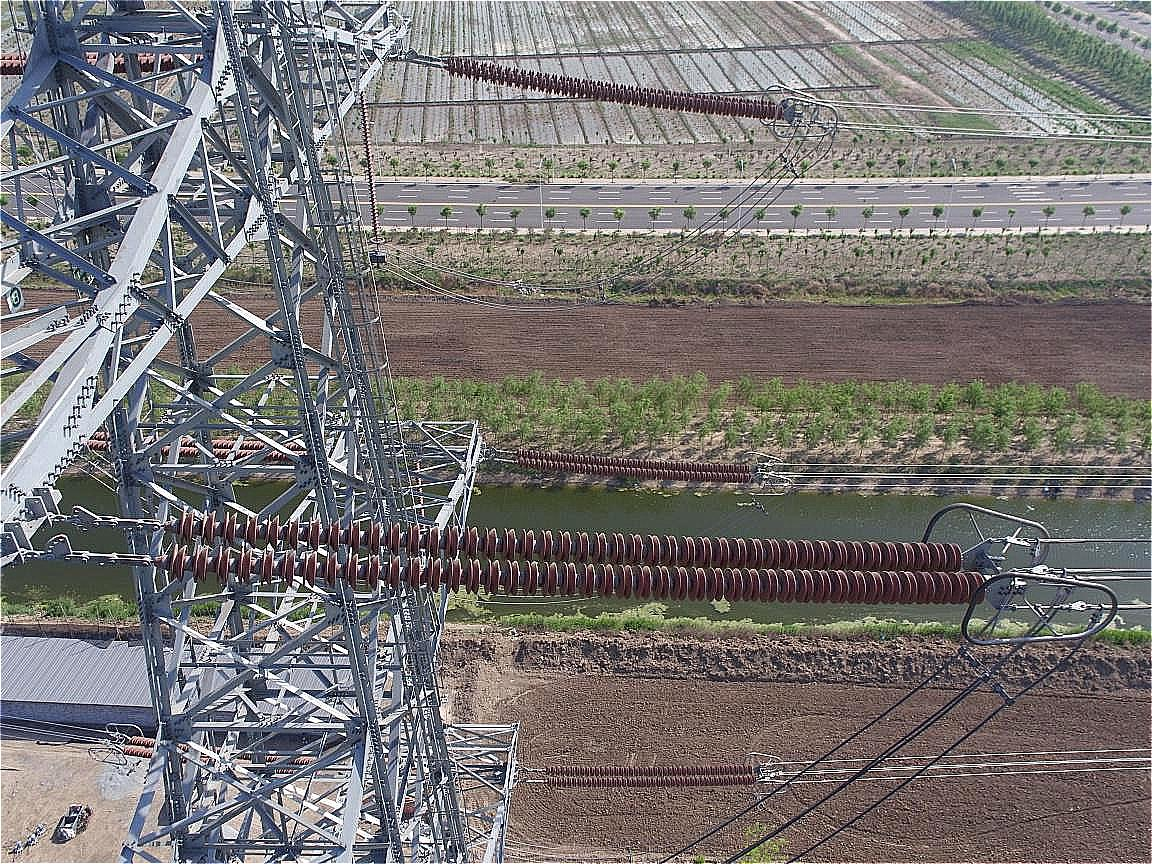insultor2: (137, 489, 1015, 636), (426, 46, 788, 133), (494, 432, 779, 493), (536, 758, 763, 799)
